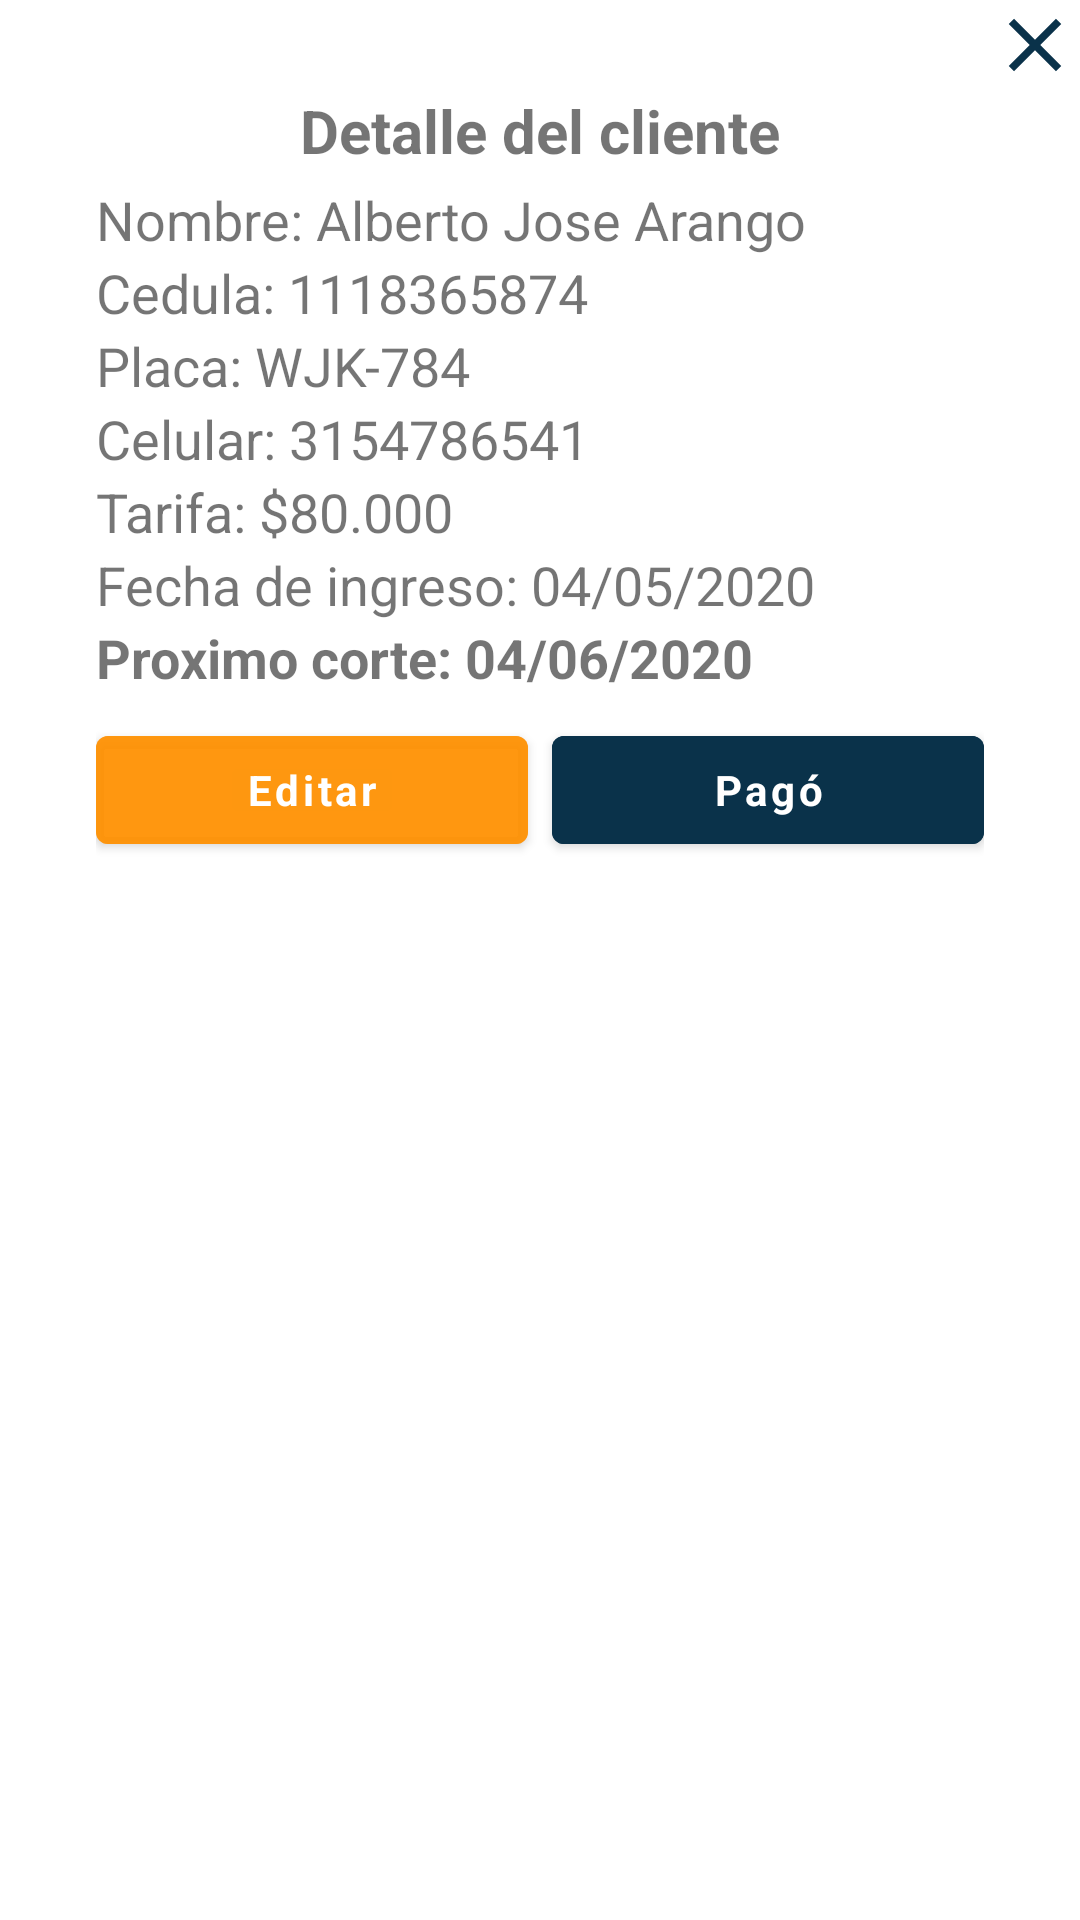

Where icons sit on this 1080w x 1920h app screen, as (x1, y1, x2, y2):
close deep: (1009, 19, 1061, 71)
